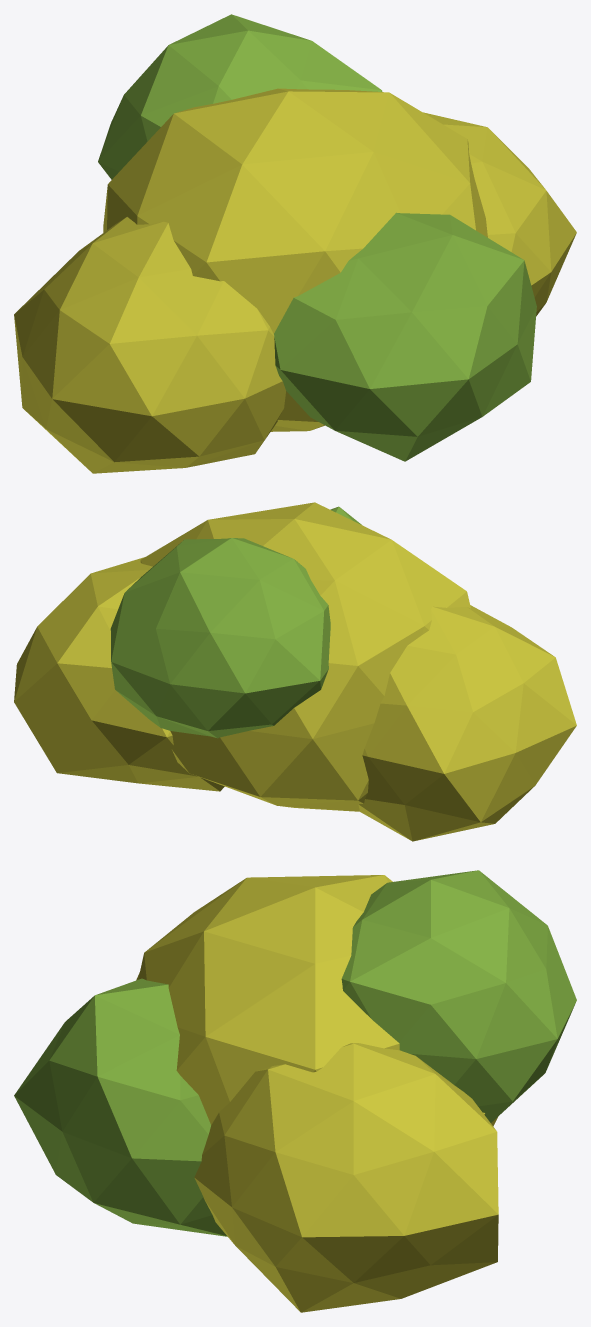
Rendered from Tree_Bush_Yellow.fbx.
The picture shows the model from 3 angles, top to bottom: view 1: azimuth 30°, elevation 25°; view 2: azimuth 150°, elevation 25°; view 3: azimuth 270°, elevation 25°; orthographic projection. The views are drawn at different scales.
Visible parts, largest first — view 1: Tree_Bush_Yellow; view 2: Tree_Bush_Yellow; view 3: Tree_Bush_Yellow.
Boxes of the visible parts, left/top/right/bottom form: Tree_Bush_Yellow: left=14, top=14, right=576, bottom=473; Tree_Bush_Yellow: left=14, top=502, right=576, bottom=841; Tree_Bush_Yellow: left=14, top=870, right=576, bottom=1312.
Size of the model in its own units: 1.73 by 1.03 by 1.46.
